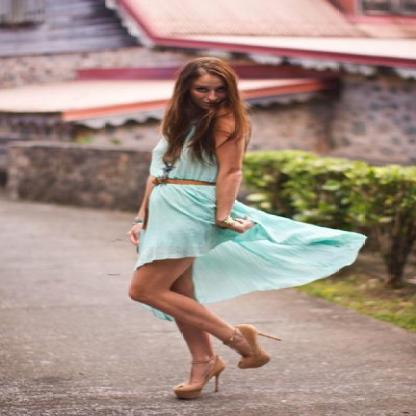dress: (127, 127, 366, 304)
shoe: (172, 327, 268, 402)
